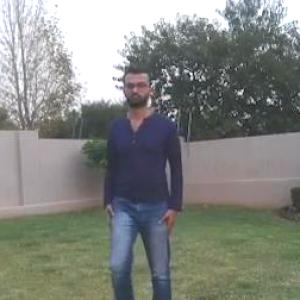follow: (102, 74, 175, 299)
